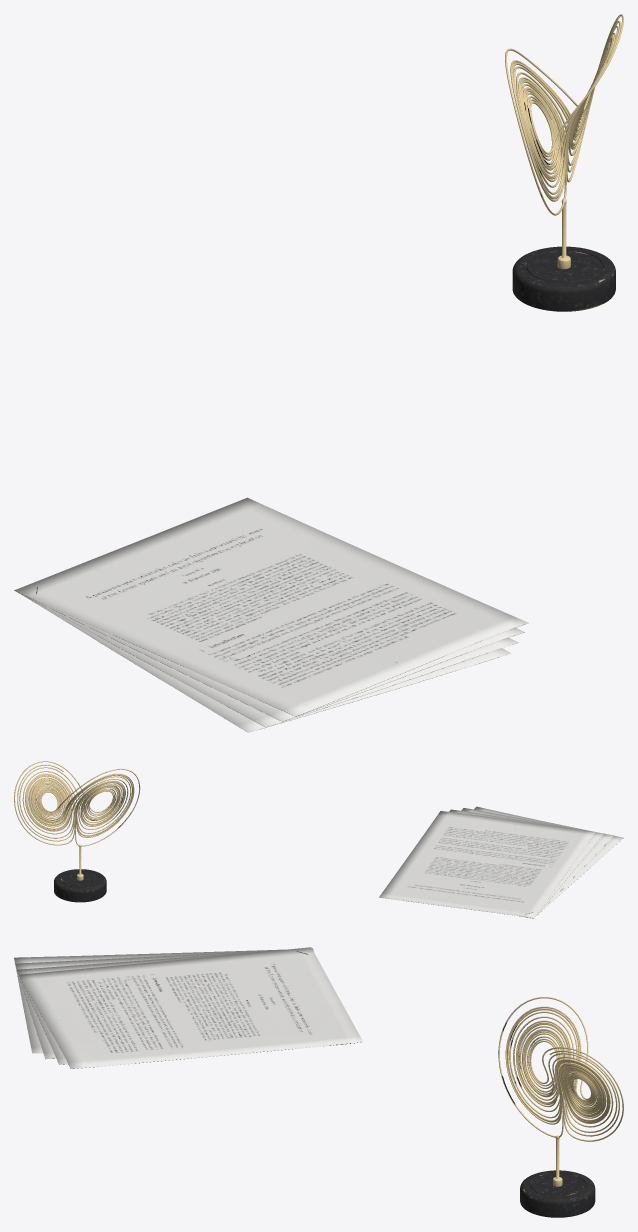
The model's file is lorenz.glb.
3 views of the same model, one above another, from view 1: azimuth 30°, elevation 25°; view 2: azimuth 150°, elevation 25°; view 3: azimuth 270°, elevation 25° (orthographic). The views are drawn at different scales.
Visible parts, largest first — view 1: paper__mesh, lorenz_sculpture__mesh; view 2: paper__mesh, lorenz_sculpture__mesh; view 3: paper__mesh, lorenz_sculpture__mesh.
Part boxes in pixels (x1,y1,x2,y2): paper__mesh: (14,497,528,732); lorenz_sculpture__mesh: (505,14,623,311); paper__mesh: (379,806,623,918); lorenz_sculpture__mesh: (14,761,140,902); paper__mesh: (14,947,362,1068); lorenz_sculpture__mesh: (498,997,623,1217).
Bounding box in the file's own units: 0.6306 × 0.1888 × 0.5677.
1 material, 1 textured.
